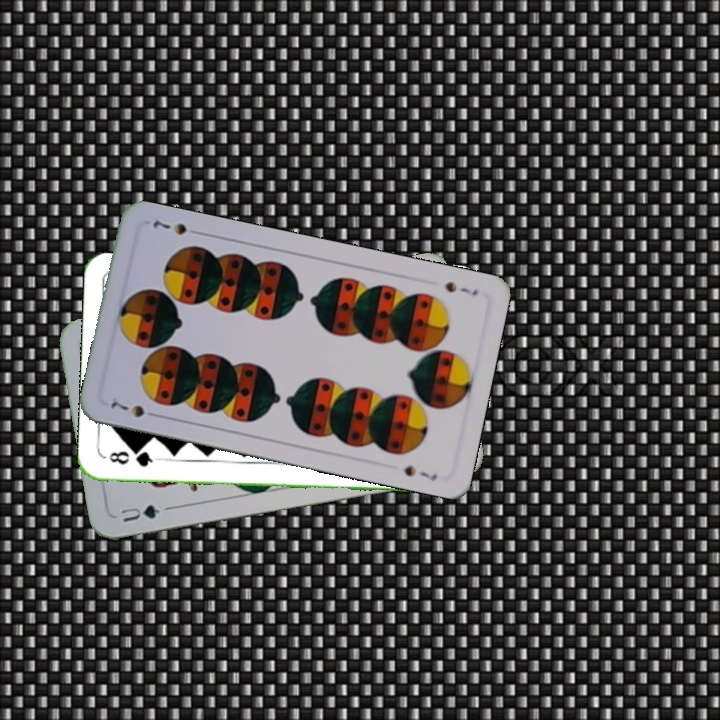G8: (105, 447, 161, 469)
GU: (117, 500, 163, 525)
S7: (107, 397, 162, 420), (441, 277, 481, 298)
